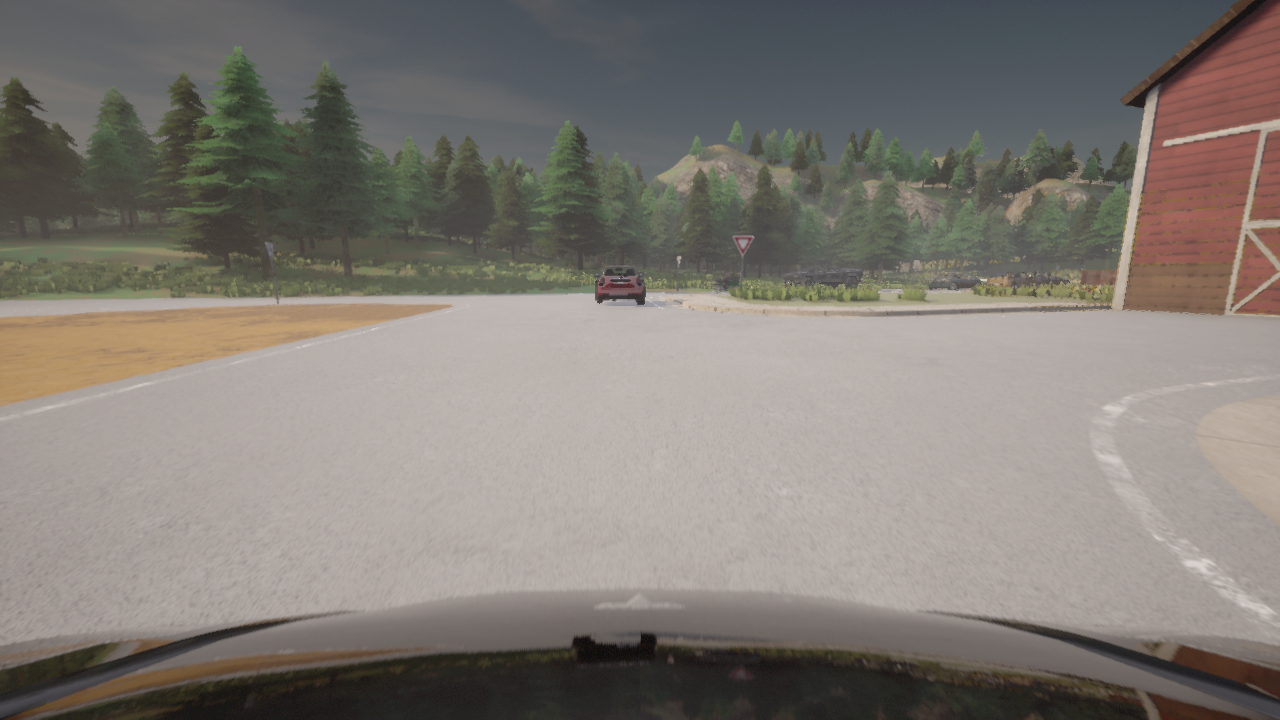cyclist: (0, 588, 1279, 719), (783, 264, 864, 290), (928, 272, 981, 290), (987, 271, 1041, 288), (713, 276, 739, 293)
